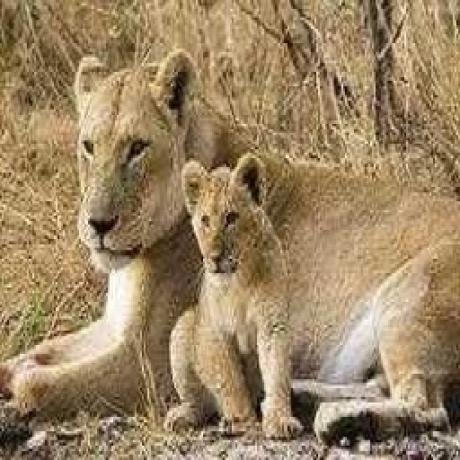Lion: (0, 46, 460, 442), (167, 152, 303, 442)
